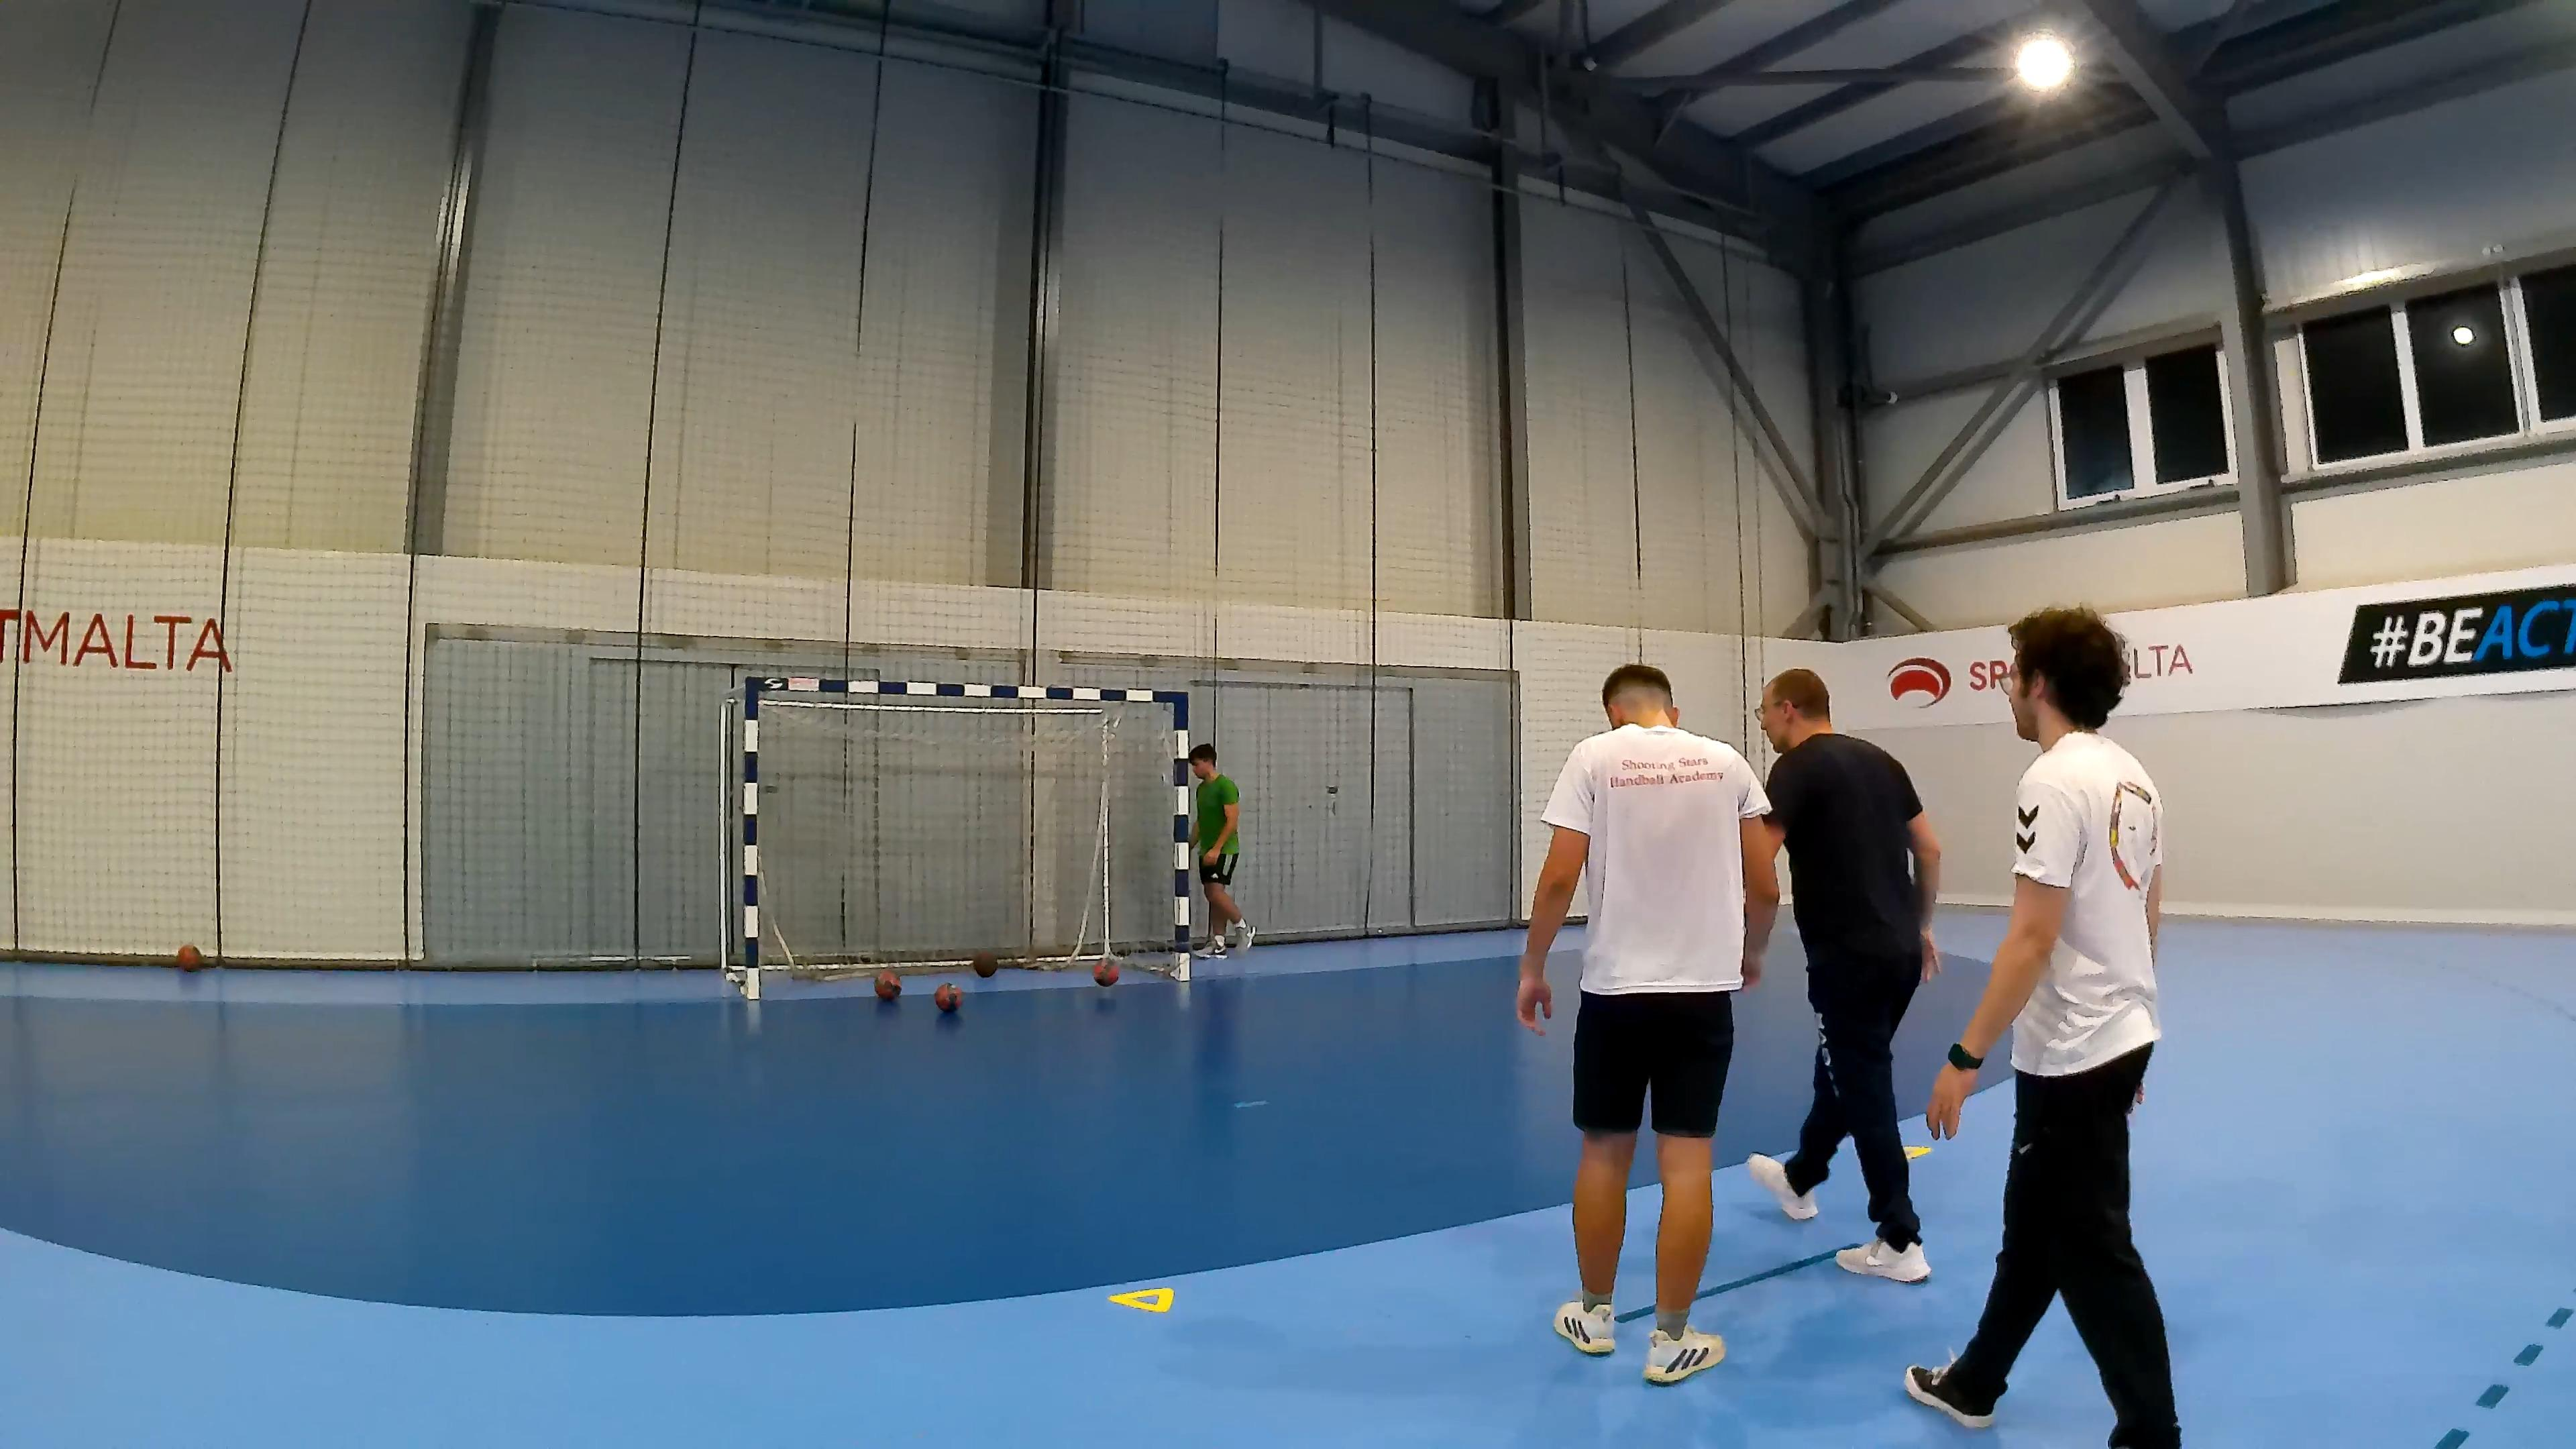handball: (872, 970, 901, 1001), (932, 982, 961, 1010), (1092, 957, 1118, 985), (971, 950, 996, 977)
